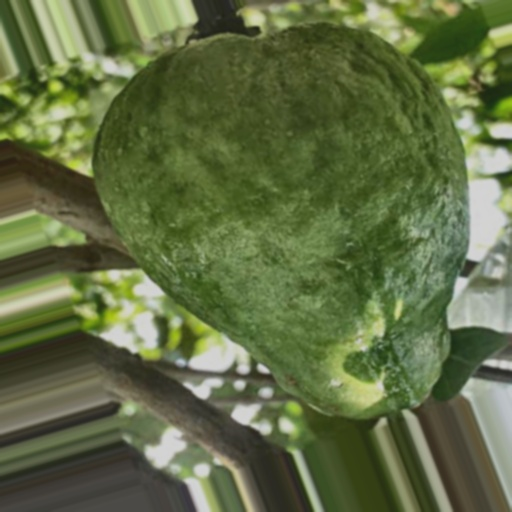guava: (73, 53, 419, 475)
